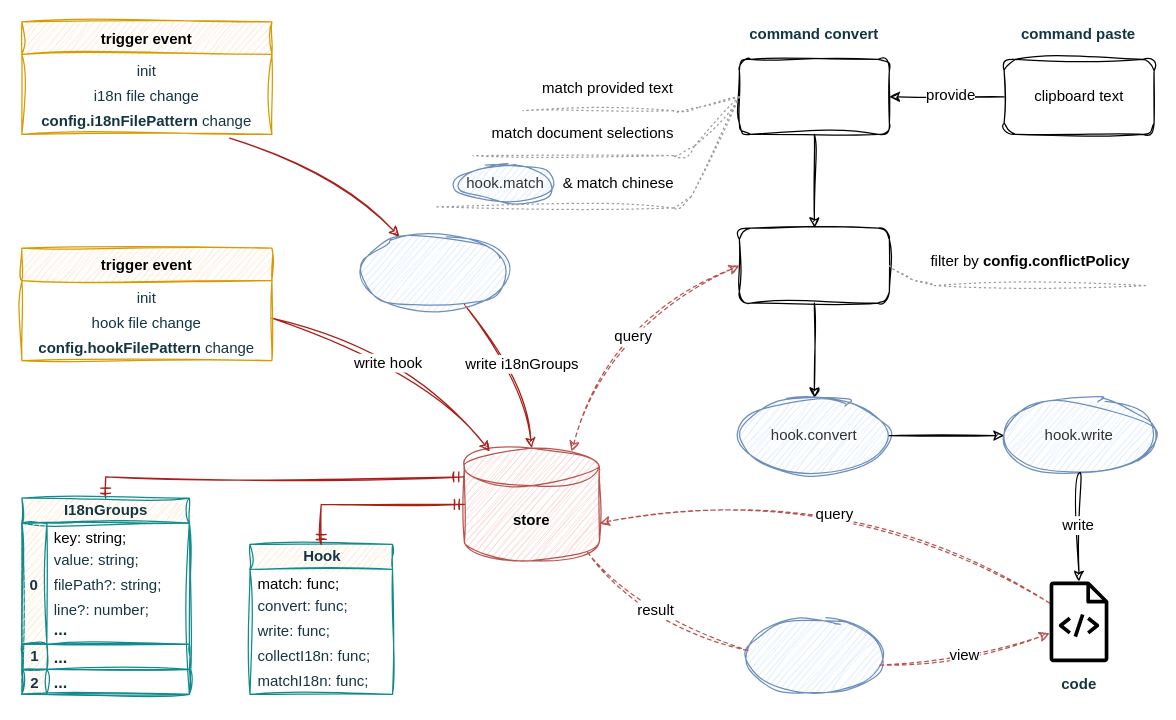
Some shapes in this 1176 by 720 pixel diagram are drawn without their labels. Here are the shapes that lost their labels. From the top down, the centre of each, then its label:
the point at 813,96: match
the point at 433,271: hook.collectI18n
the point at 813,265: is repeat
the point at 813,656: hook.matchI18n
